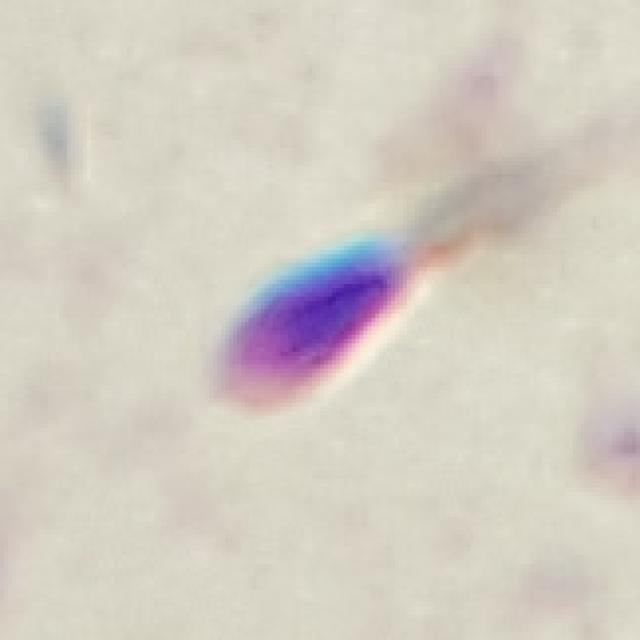abnormal sperm: (202, 170, 569, 432)
